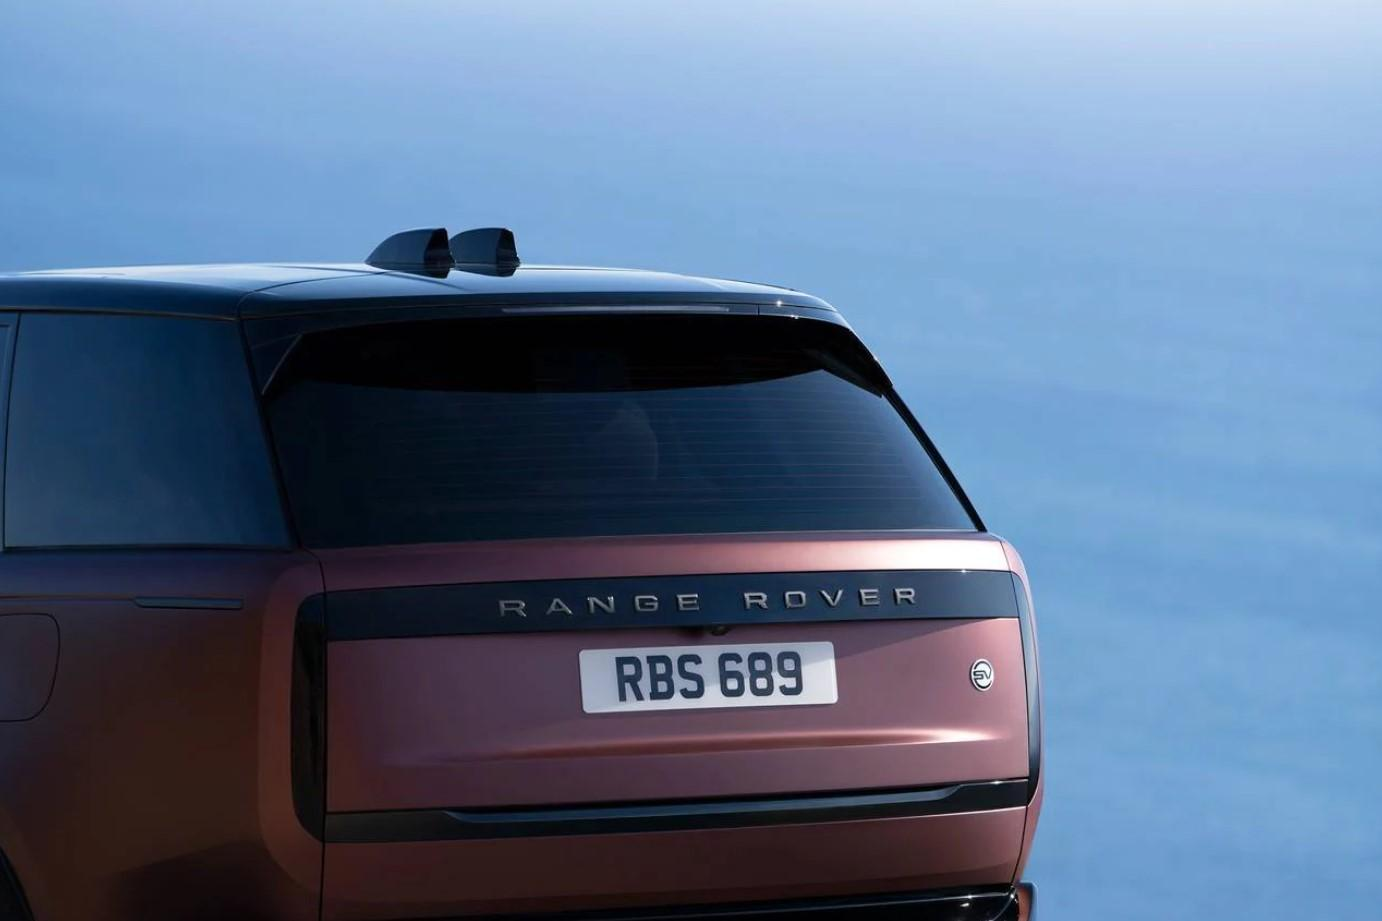range rover: (466, 566, 927, 633)
